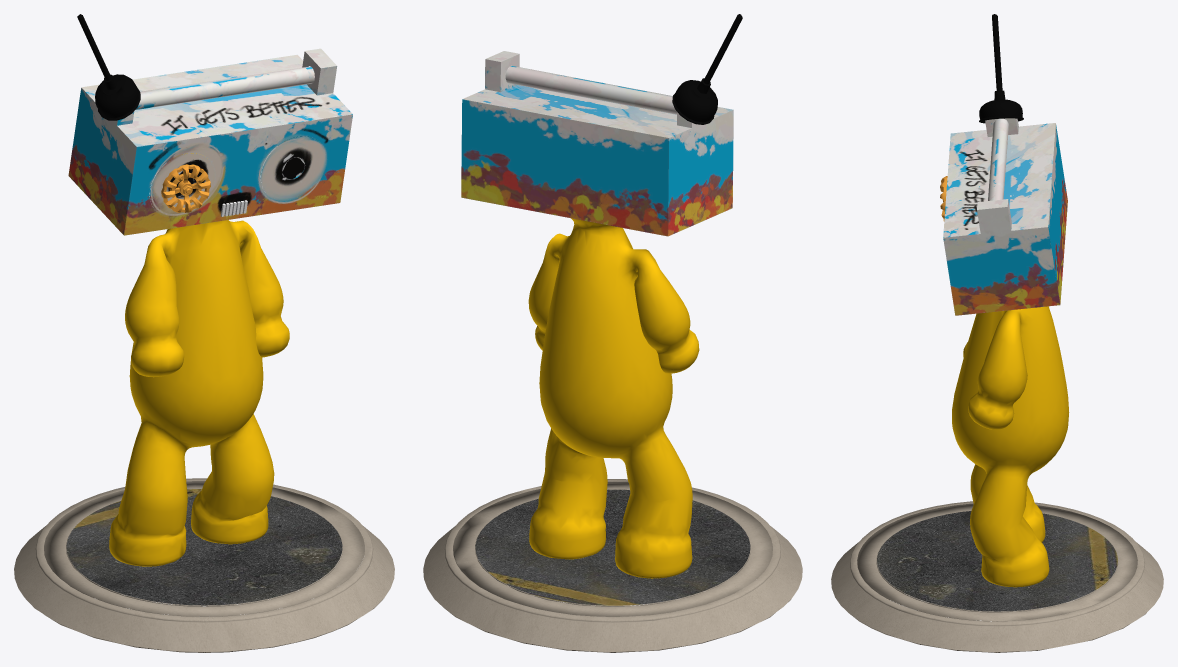
3 views of the same model, side by side, from view 1: azimuth 30°, elevation 25°; view 2: azimuth 150°, elevation 25°; view 3: azimuth 270°, elevation 25° (orthographic). The views are drawn at different scales.
Parts seen in each view (by area): view 1: BBody; view 2: BBody; view 3: BBody.
Part boxes in pixels (<box>): BBody: <box>14,14,394,652</box>; BBody: <box>423,14,802,652</box>; BBody: <box>831,14,1163,652</box>.
Size of the model in its own units: 1.45 by 2.47 by 1.45.
Materials: 7 (4 with a texture image).
